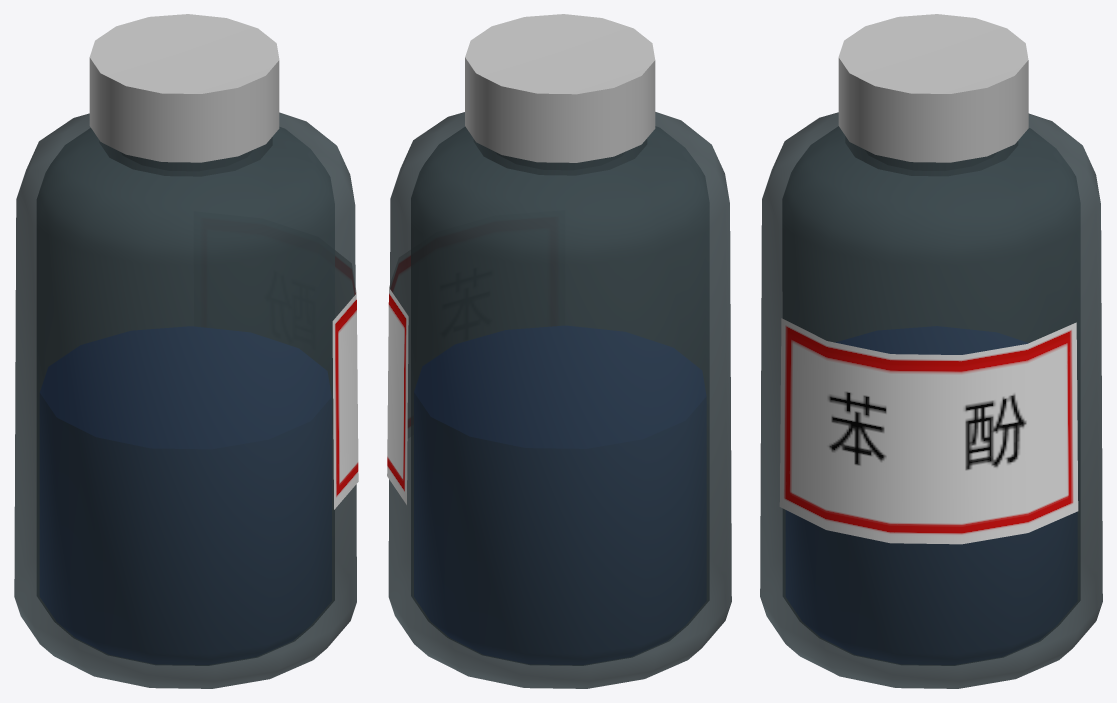
3 views of the same model, side by side, from view 1: azimuth 30°, elevation 25°; view 2: azimuth 150°, elevation 25°; view 3: azimuth 270°, elevation 25° (orthographic).
Visible parts, largest first — view 1: SM_苯酚_瓶体, SM_苯酚_盖子; view 2: SM_苯酚_瓶体, SM_苯酚_盖子; view 3: SM_苯酚_瓶体, SM_苯酚_盖子.
Part boxes in pixels (x1,y1,x2,y2): SM_苯酚_瓶体: [14, 112, 358, 688]; SM_苯酚_盖子: [89, 14, 279, 162]; SM_苯酚_瓶体: [387, 112, 731, 688]; SM_苯酚_盖子: [465, 14, 655, 162]; SM_苯酚_瓶体: [760, 112, 1102, 688]; SM_苯酚_盖子: [838, 14, 1028, 162].
Bounding box in the file's own units: 46.99 × 87.24 × 46.85.
